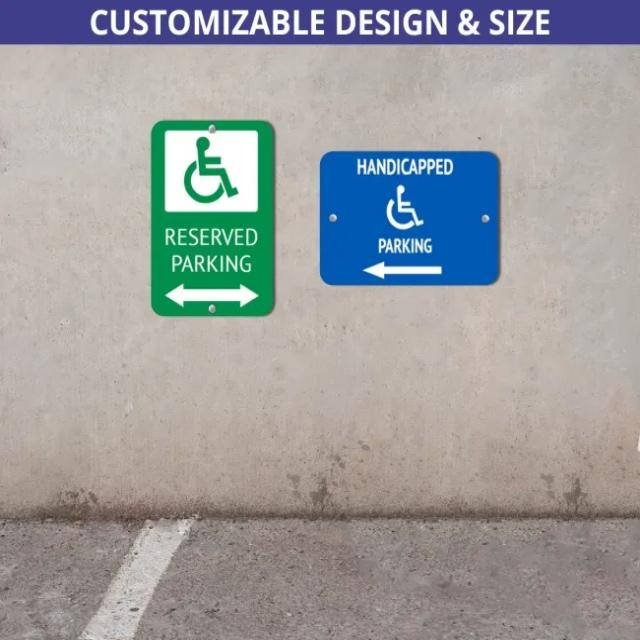car-handicap-placard: (180, 135, 248, 209), (383, 180, 427, 236)
